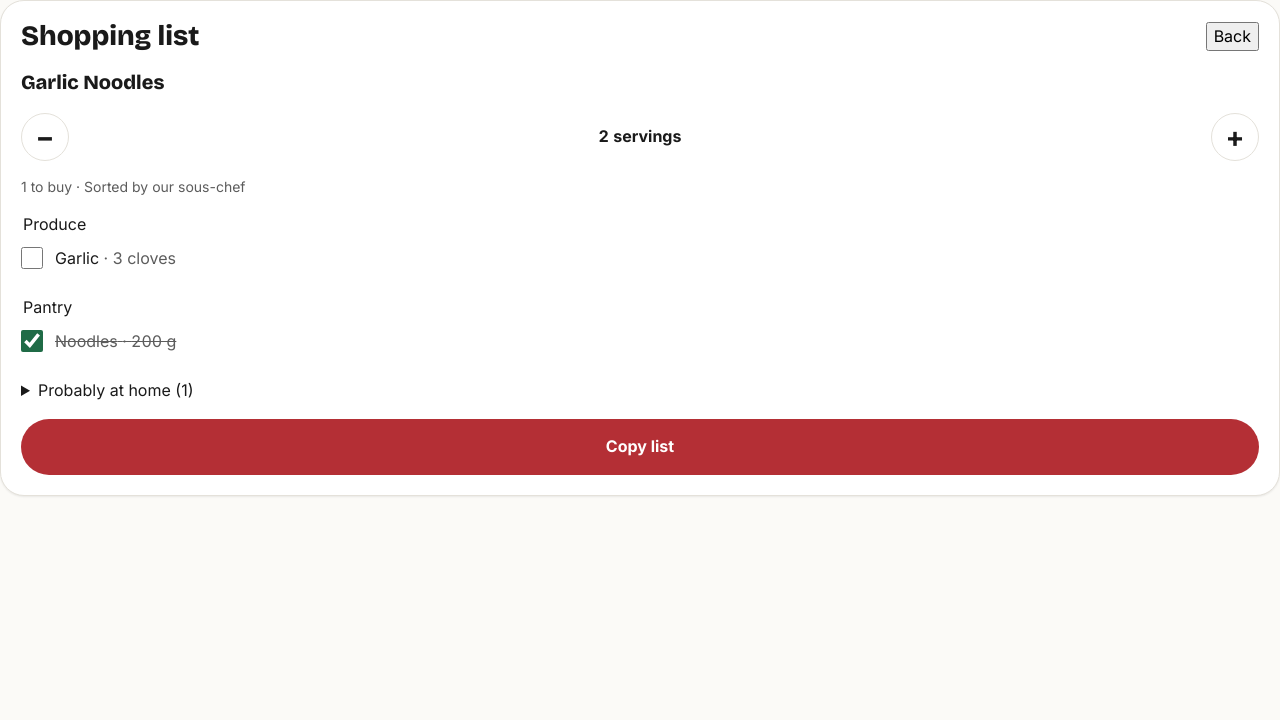
Scenario: ShoppingListView › copies over plain http too, where there is no Clipboard API
Click the button "Copy list".
click(640, 447)  # box [21,419,1259,475]
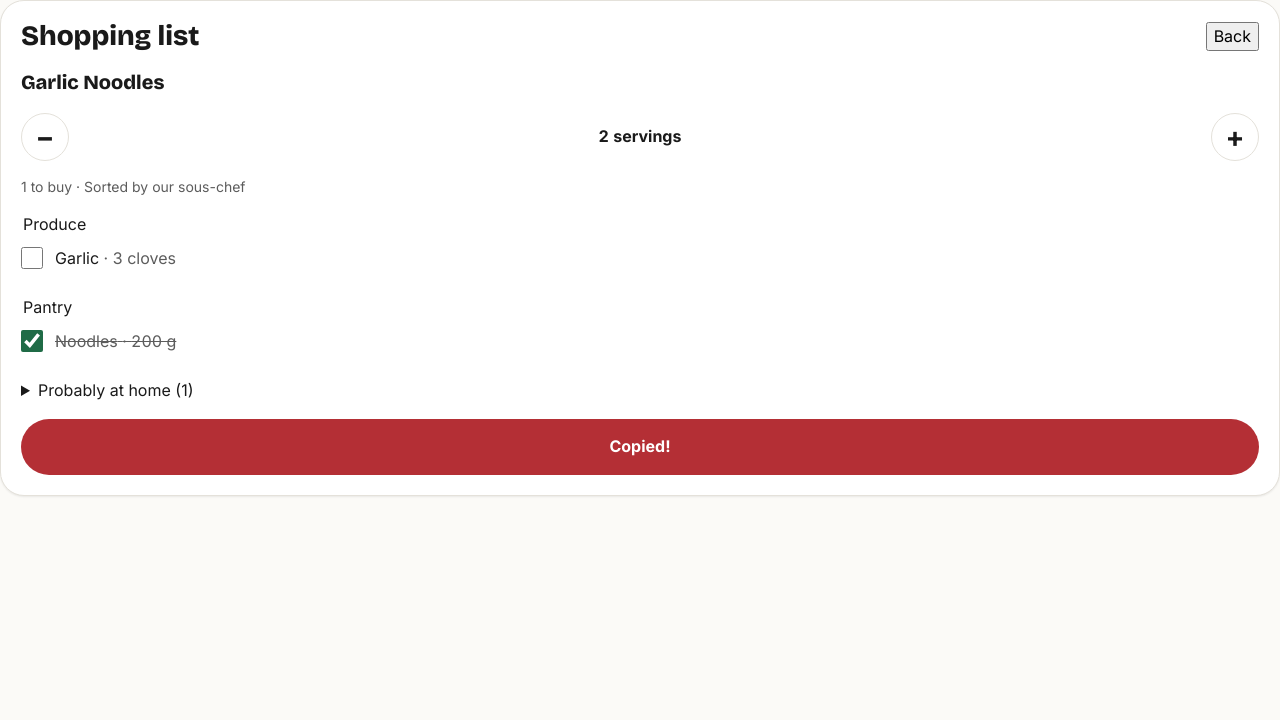
Now the button "Copied!" is shown, box [21,419,1259,475]
